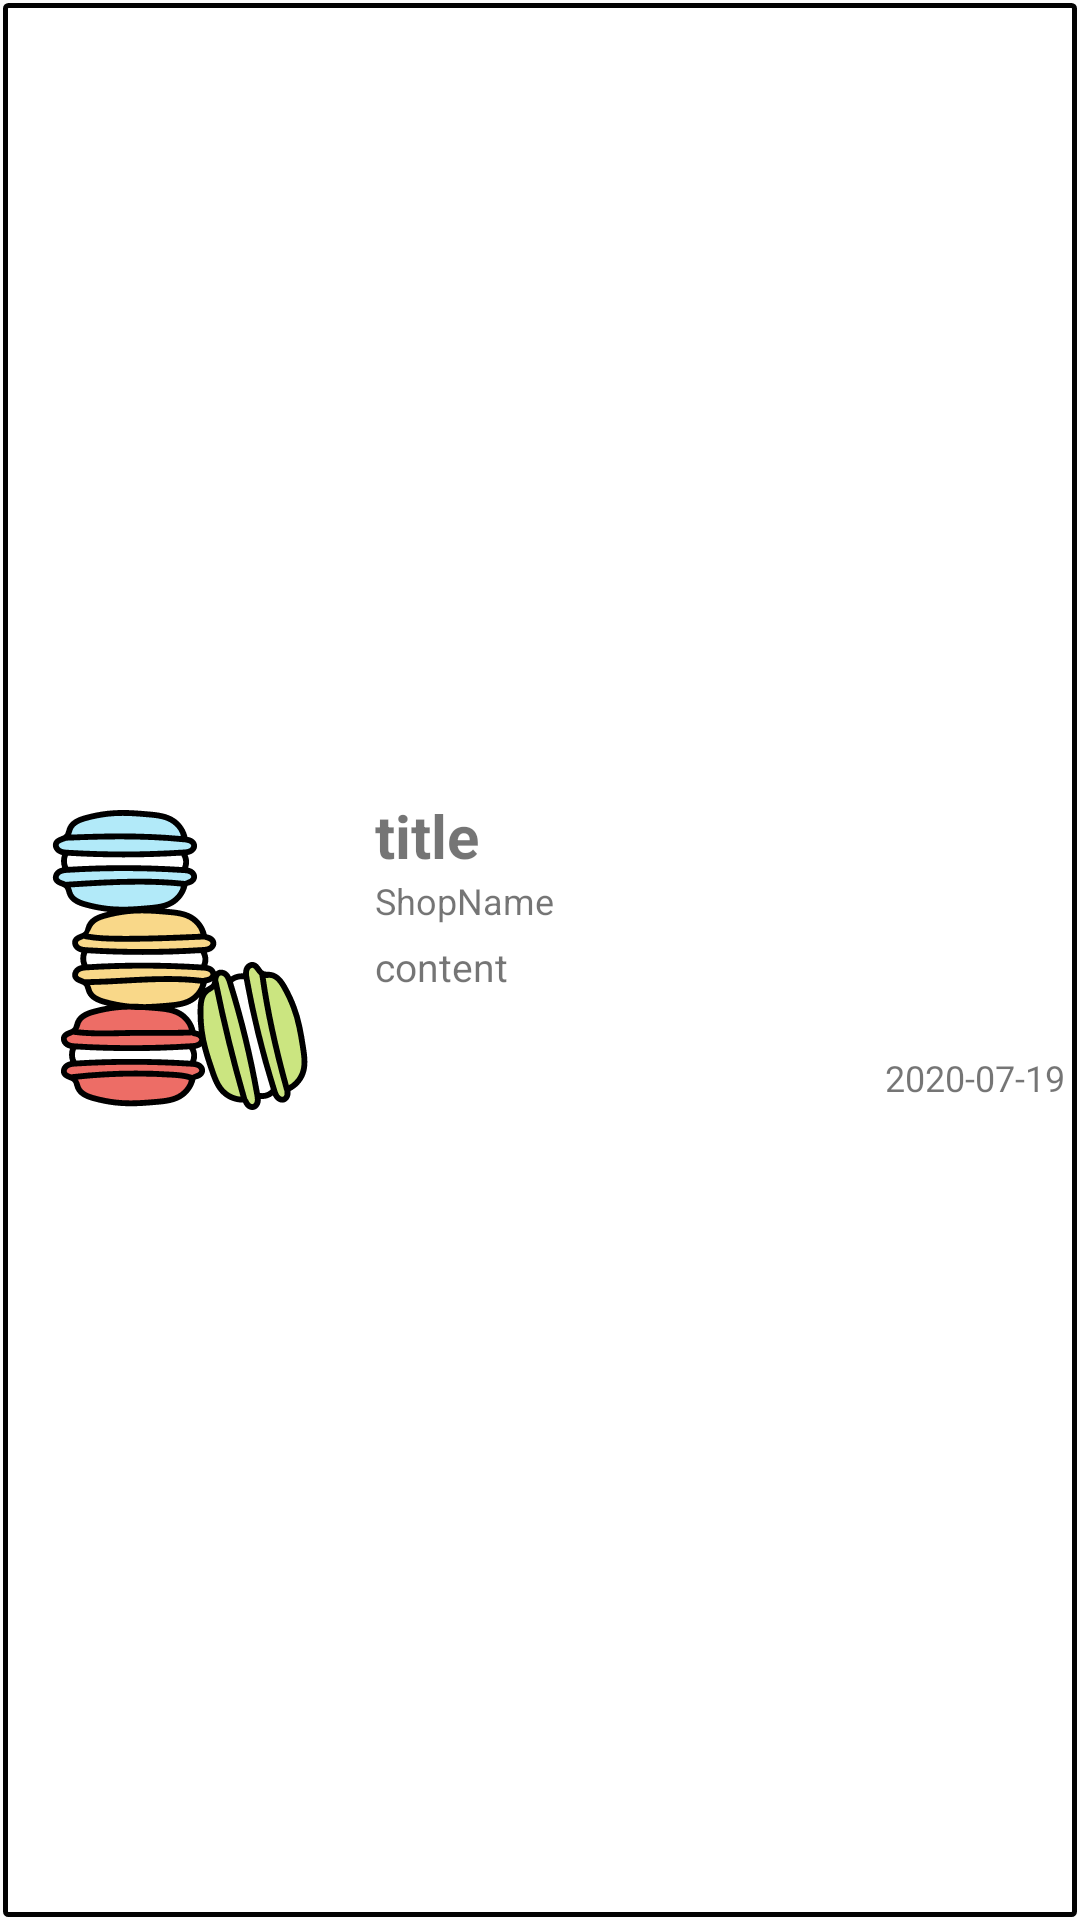

Where icons sit on this 1080px x 1920px app screen, as region(x1, y1, x2, y2):
macaron: region(52, 810, 308, 1110)
